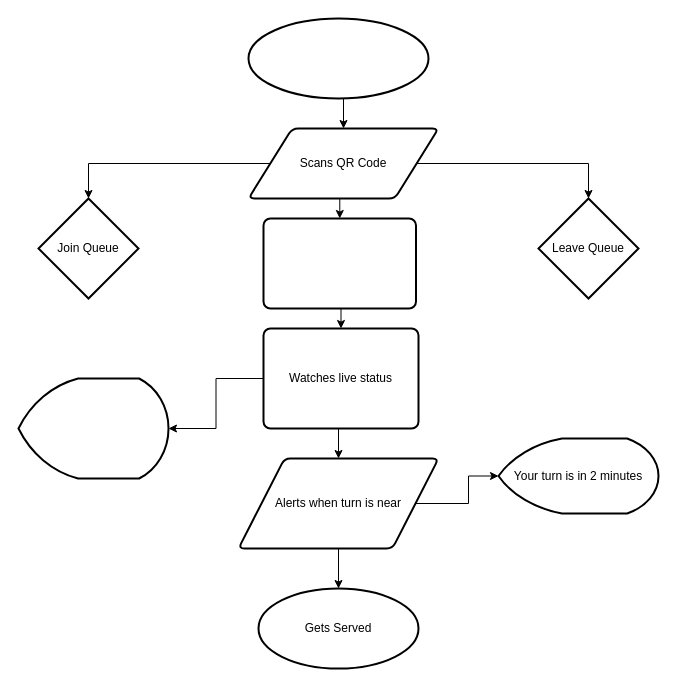
Some shapes in this 676 by 686 pixel diagram are drawn without their labels. Here are the shapes that lost their labels. From the top down, the centre of each, then its label:
point 338,58: User (Customer)
point 339,263: Joins Queue on the web browser
point 93,428: You are at 6th position in the queue
